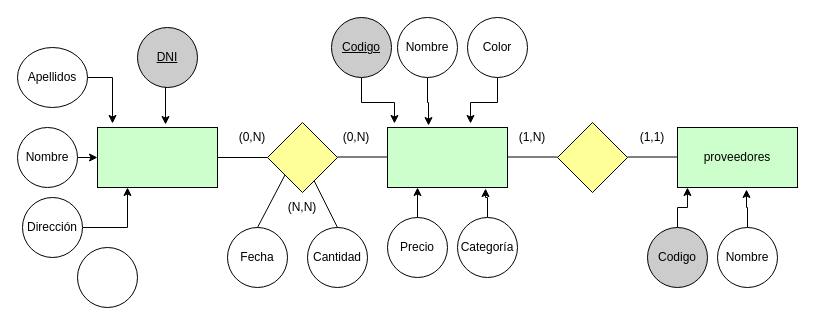
The diagram is 815 pixels wide and 325 high, and some of its shapes have lost their labels. Each missing label, with the centre of its shape:
"Cliente" goes at (x=157, y=157).
"Compra" goes at (x=302, y=157).
"Fecha nacimiento" goes at (x=107, y=277).
"Productos" goes at (x=447, y=157).
"suministro" goes at (x=592, y=157).
